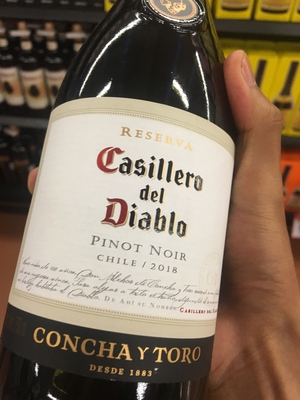casillero del diablo pinot noir: (7, 20, 240, 400)
